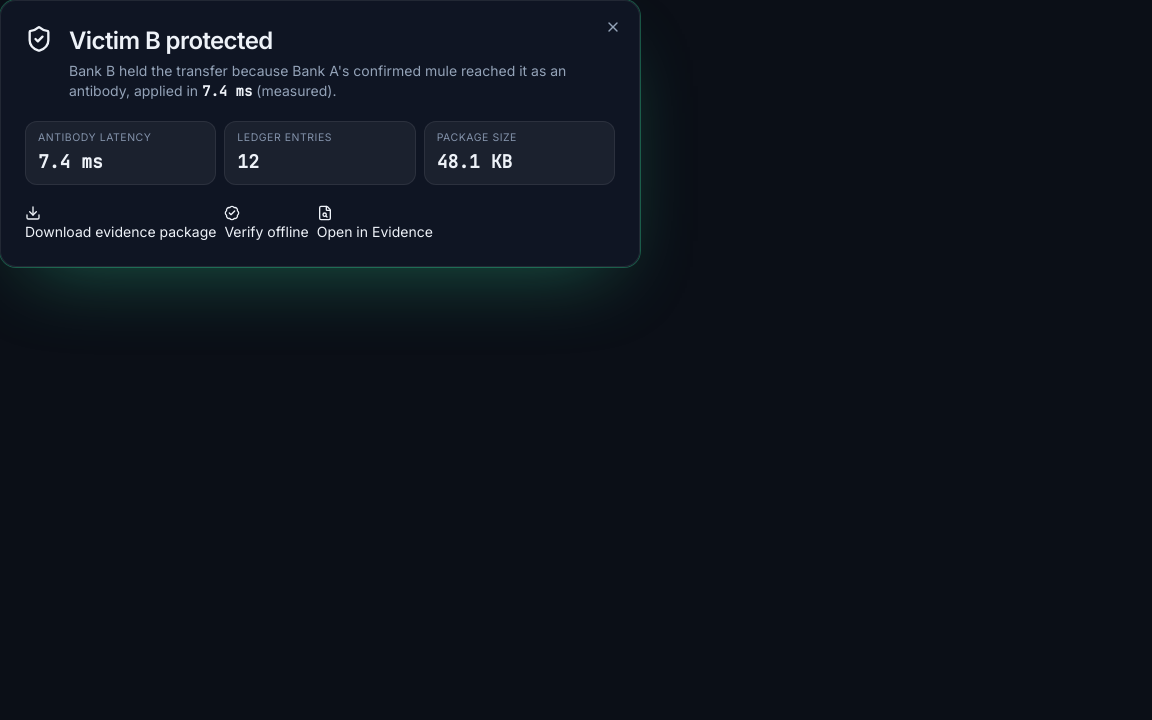
Test: FinaleCard › labels FAIL as FAIL
Click the button with test id "verify-offline". click: (267, 223)
box: [224, 205, 309, 242]
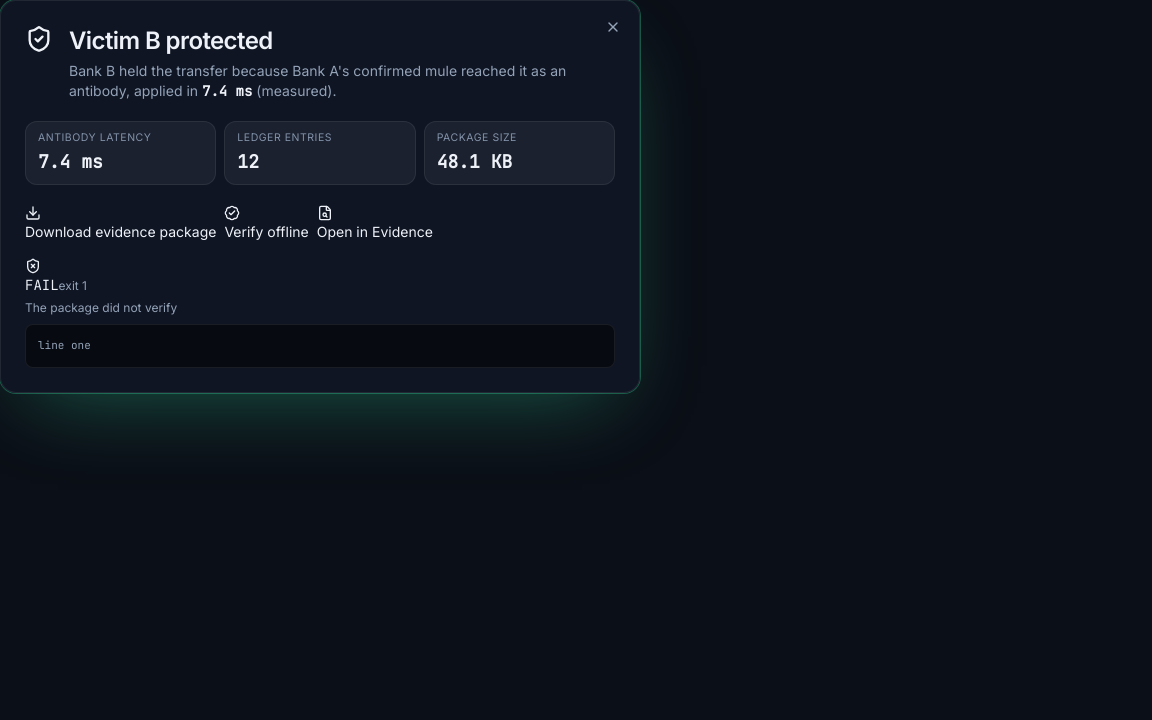
expect the text with test id "verify-status" reads "FAIL": met, box [25, 276, 59, 294]
expect the text "line one" is shown: met, box [25, 324, 615, 368]
